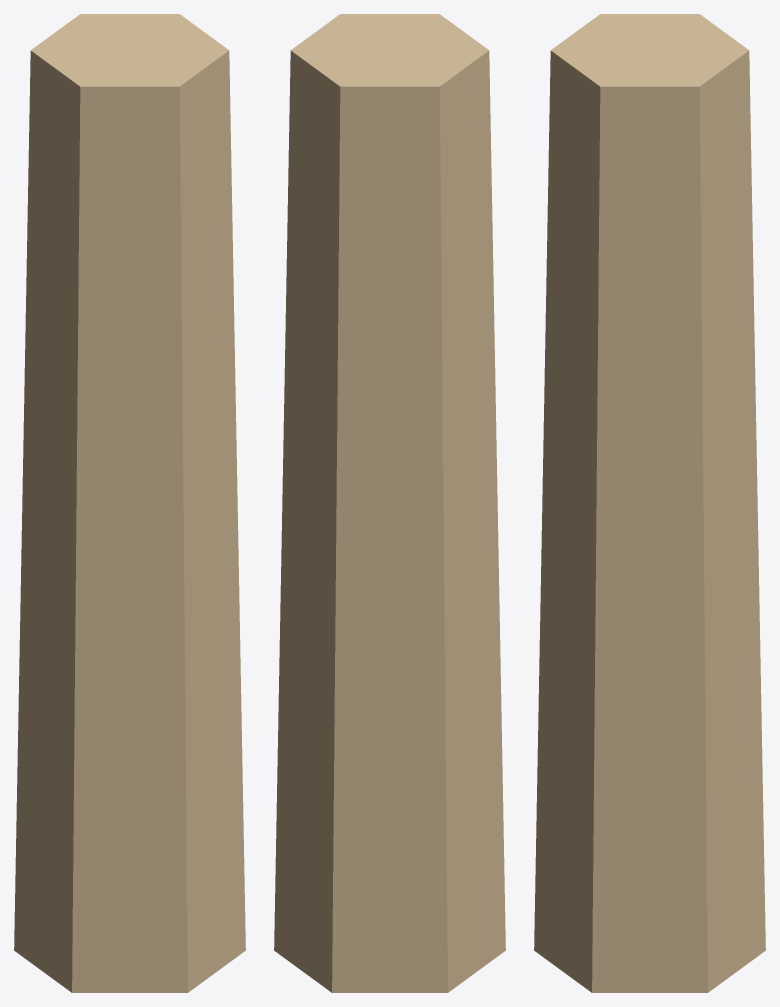
File: prop-drawknife-handle-dk1.fbx
The picture shows the model from 3 angles, left to right: view 1: azimuth 30°, elevation 25°; view 2: azimuth 150°, elevation 25°; view 3: azimuth 270°, elevation 25°; orthographic projection.
Visible parts, largest first — view 1: prop-drawknife-handle-dk1; view 2: prop-drawknife-handle-dk1; view 3: prop-drawknife-handle-dk1.
Part boxes in pixels (<box>): prop-drawknife-handle-dk1: <box>14,14,245,992</box>; prop-drawknife-handle-dk1: <box>274,14,505,992</box>; prop-drawknife-handle-dk1: <box>534,14,765,992</box>.
Size of the model in its own units: 2.42 by 12 by 2.8.
